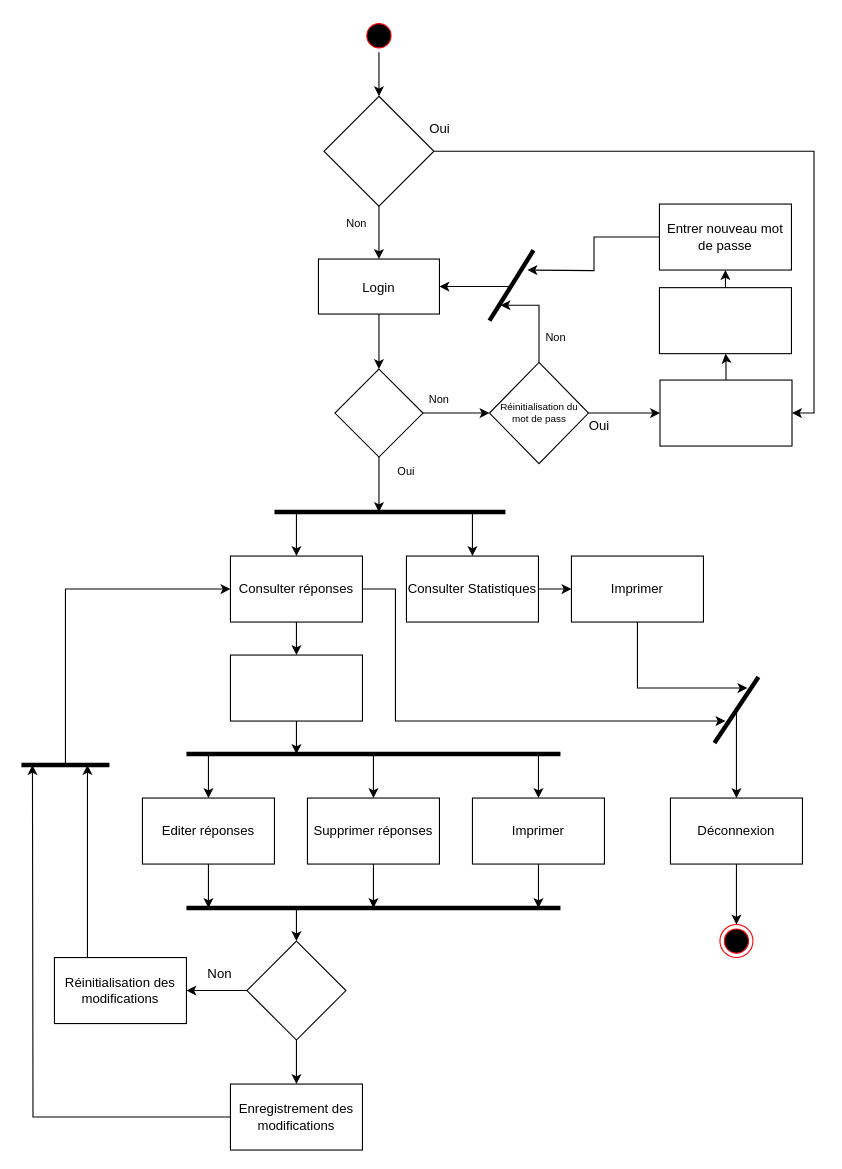
Some shapes in this 842 by 1169 pixel diagram are drawn without their labels. Each missing label, with the centre of its shape:
"Login valid" belongs at [378,412].
"Première utilisation" belongs at [378,150].
"Rechercher élève" belongs at [295,687].
"Réception par email d'un lien de réinitialisation de mot de passe" belongs at [725,412].
"Réinitialisation du mot de passe" belongs at [724,320].
"Sauvegarder" belongs at [296,990].
